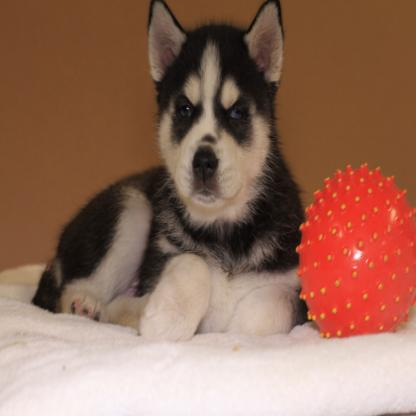husky: (34, 3, 305, 346)
